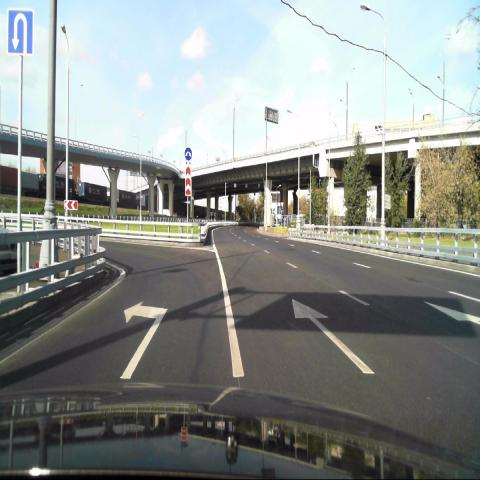6_3_1: (8, 8, 33, 55)
